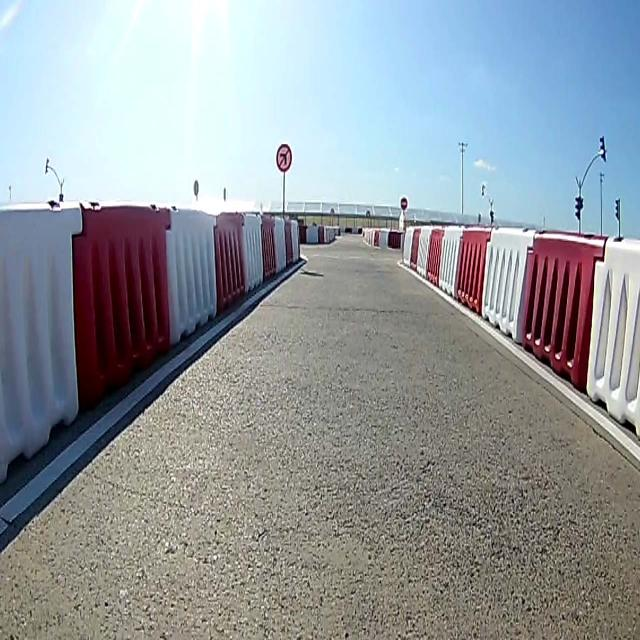girisyok: (399, 196, 407, 209)
soladonulmez: (275, 145, 293, 171)
